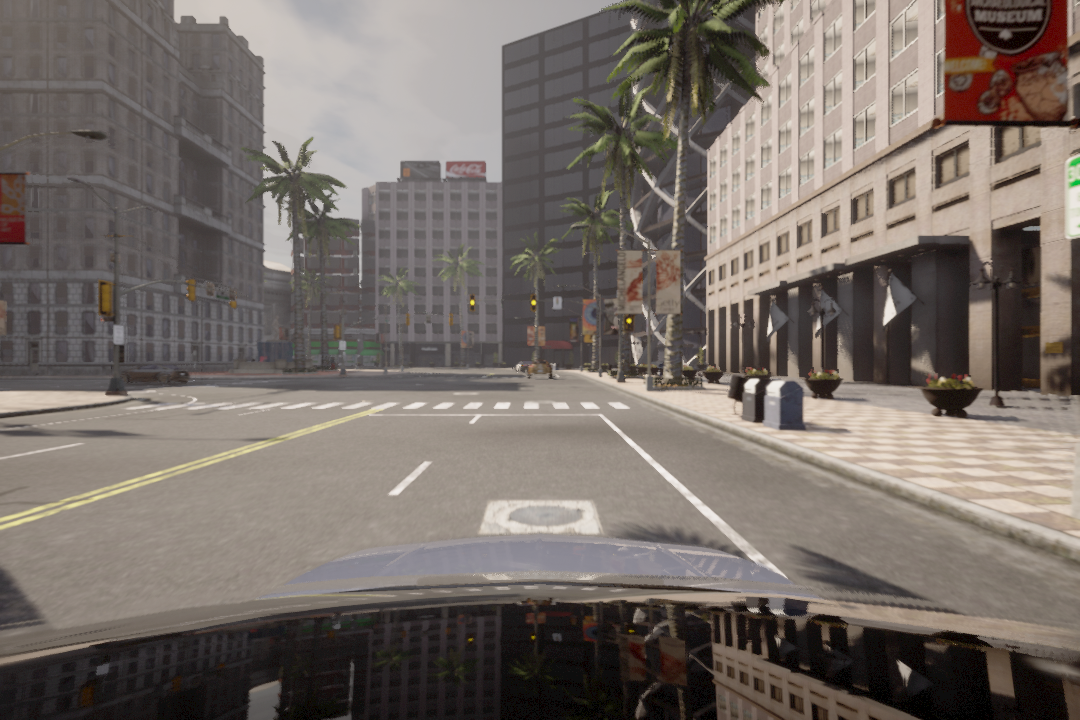TrafficLight: (469, 291, 477, 313), (530, 292, 538, 311), (624, 311, 632, 330)
walkside: (122, 399, 639, 413)
